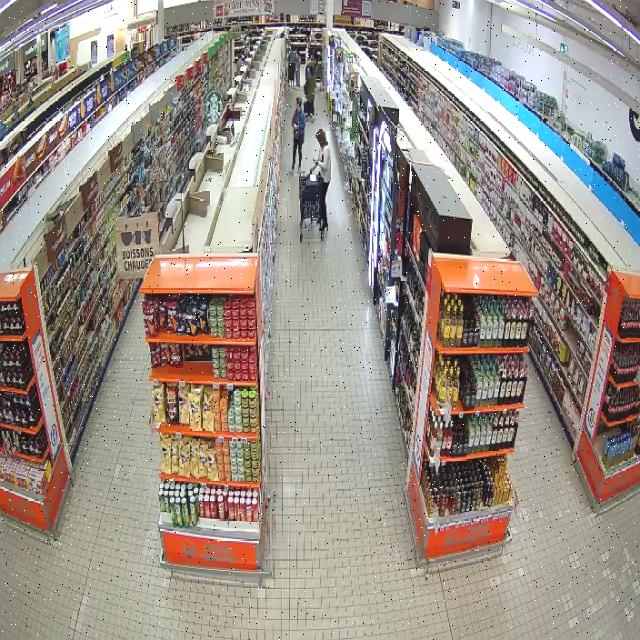article: (321, 153, 324, 162)
hands: (315, 158, 320, 166)
person: (314, 129, 330, 230)
